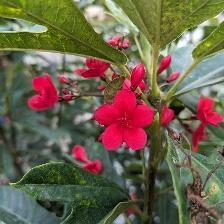jatropha: (95, 95, 159, 158)
